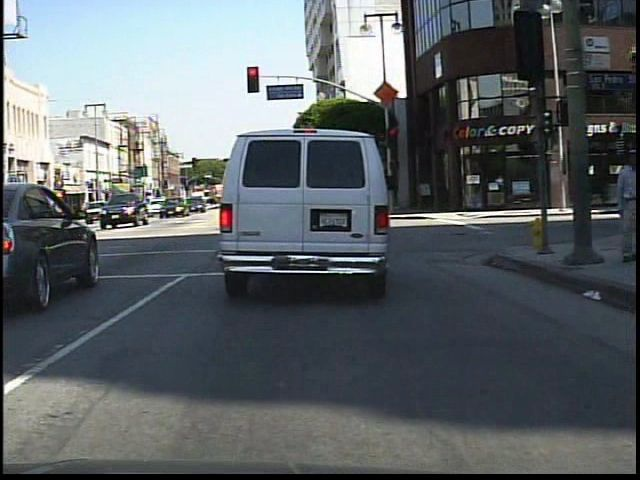person: (612, 146, 639, 266)
